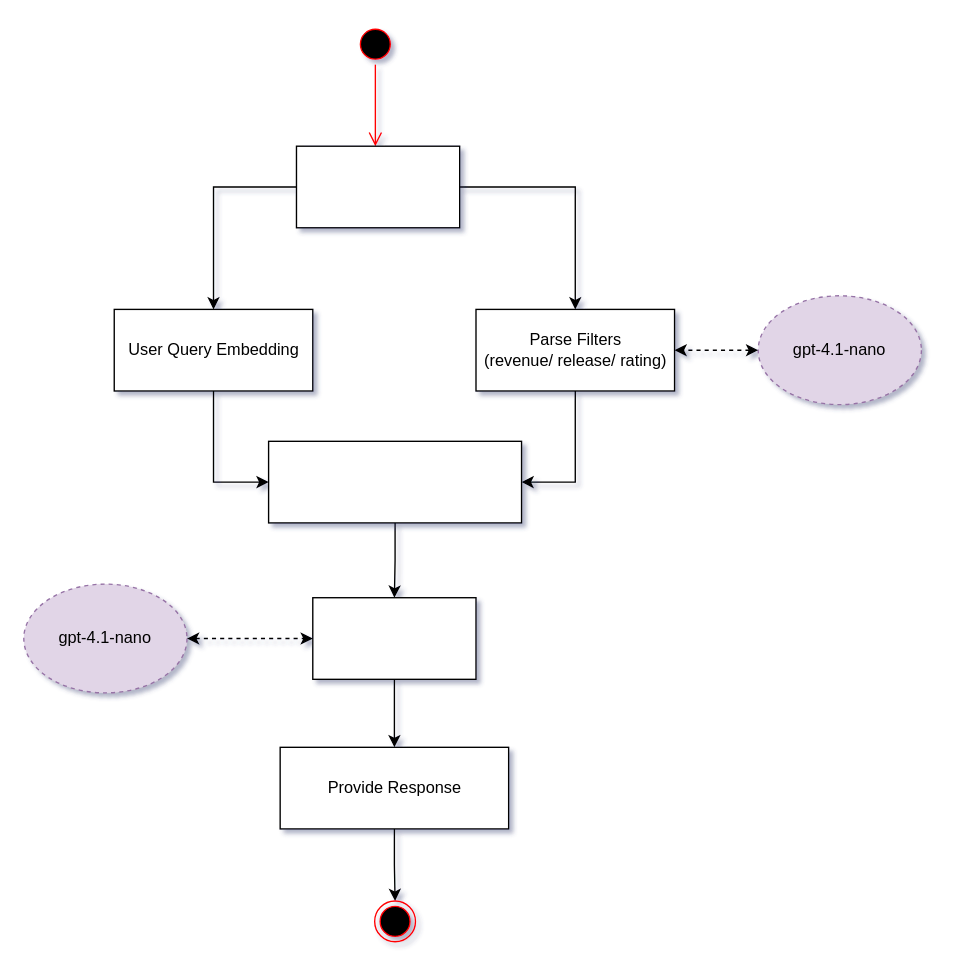
This 953x974 diagram has some shape labels left out. Each missing label, with the centre of its shape:
Generate Response with LLM: the point at 393,637
Retrieve Relevant Chunks from Vector Store: the point at 394,481
User Query / Evaluation Pipeline: the point at 377,186
